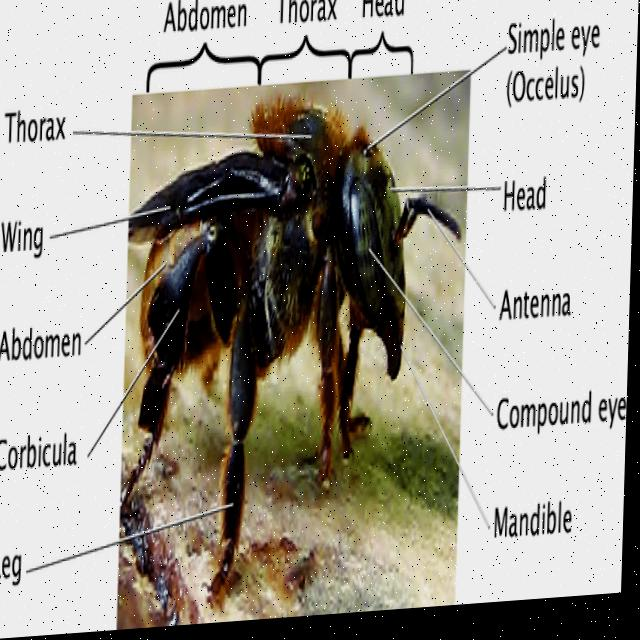Xylocopa: (128, 84, 465, 622)
